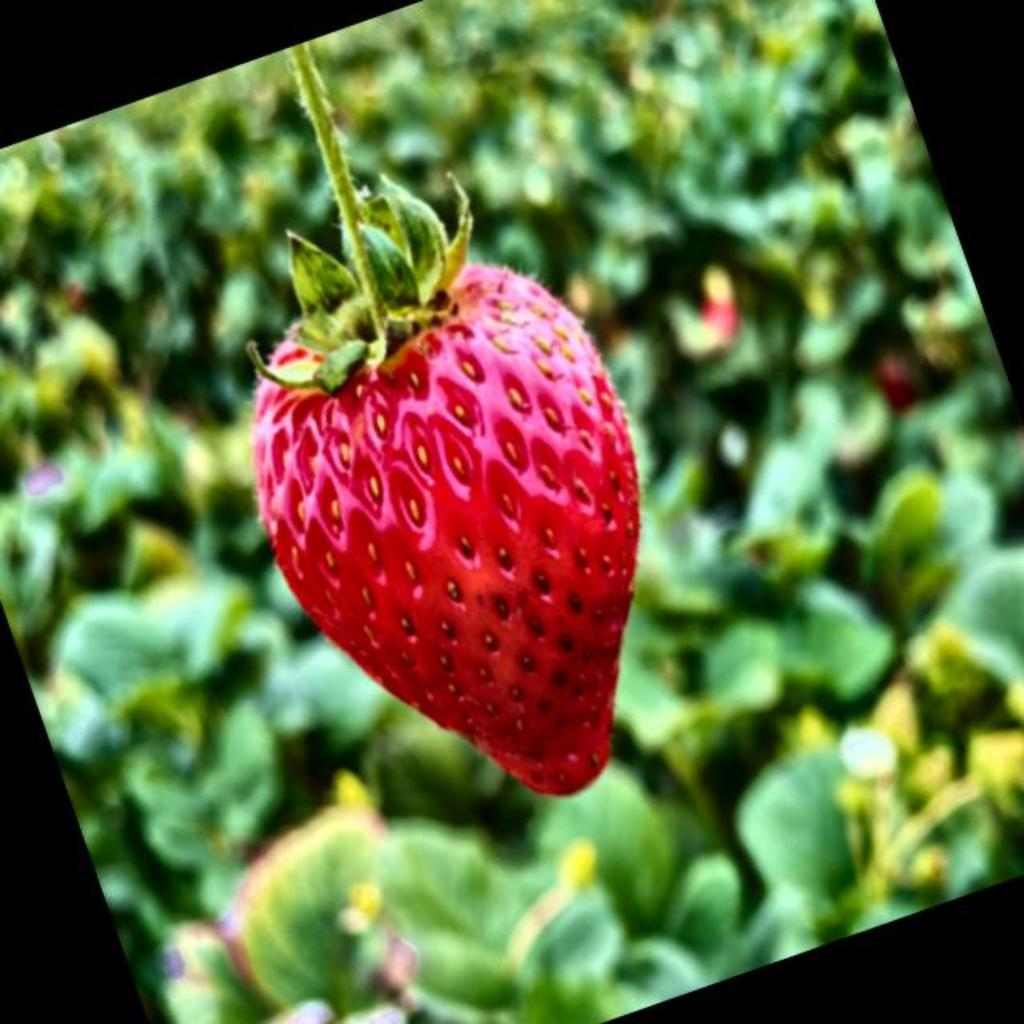strawberry: (252, 46, 638, 793)
